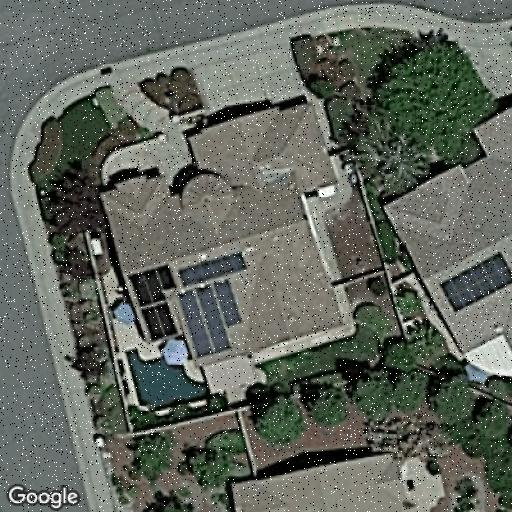solar-panel: (175, 250, 248, 358), (440, 251, 512, 313), (128, 263, 180, 341)
